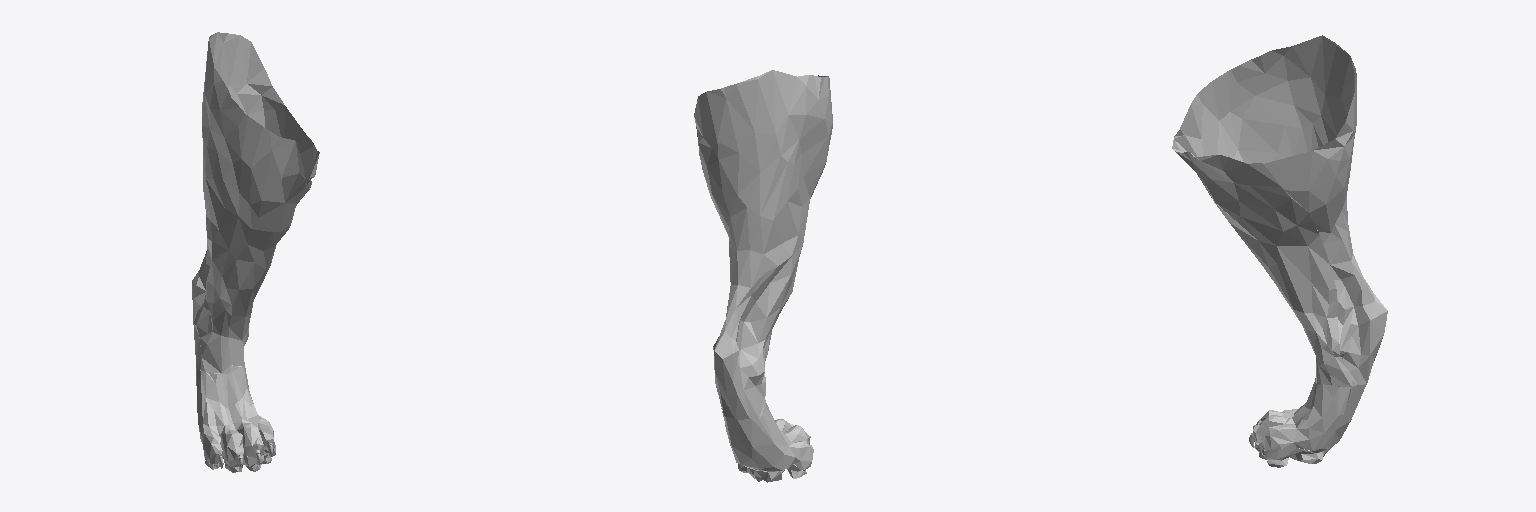
Rendered from lB_rightleg.obj.
3 renders of one model, left to right at view 1: azimuth 30°, elevation 25°; view 2: azimuth 150°, elevation 25°; view 3: azimuth 270°, elevation 25°, orthographic.
Parts seen in each view (by area): view 1: Lioness_Body_Lioness_Body_0.013; view 2: Lioness_Body_Lioness_Body_0.013; view 3: Lioness_Body_Lioness_Body_0.013.
Part boxes in pixels (left/top/right/bottom): Lioness_Body_Lioness_Body_0.013: left=192, top=32, right=319, bottom=472; Lioness_Body_Lioness_Body_0.013: left=694, top=70, right=832, bottom=482; Lioness_Body_Lioness_Body_0.013: left=1172, top=35, right=1387, bottom=467.
Bounding box in the file's own units: 0.5482 × 2.4 × 1.13.